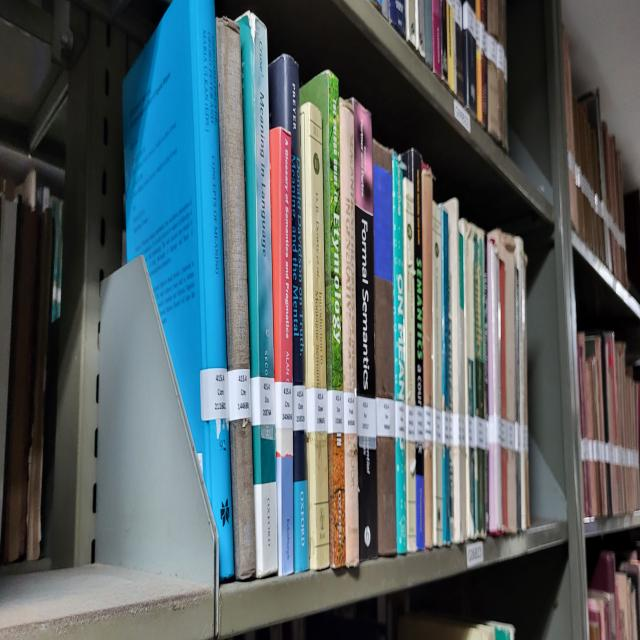Book: (122, 0, 234, 579), (300, 70, 345, 568), (216, 19, 256, 579), (239, 11, 278, 576), (269, 54, 309, 571), (300, 103, 330, 571), (351, 100, 378, 560), (270, 127, 294, 576), (372, 141, 396, 555), (341, 100, 359, 568)
Label: (200, 368, 229, 422), (250, 376, 276, 425), (228, 368, 251, 422), (306, 387, 328, 433), (275, 381, 292, 430), (358, 395, 376, 438), (376, 398, 395, 438), (328, 390, 344, 433), (292, 384, 306, 430), (344, 390, 358, 436)
